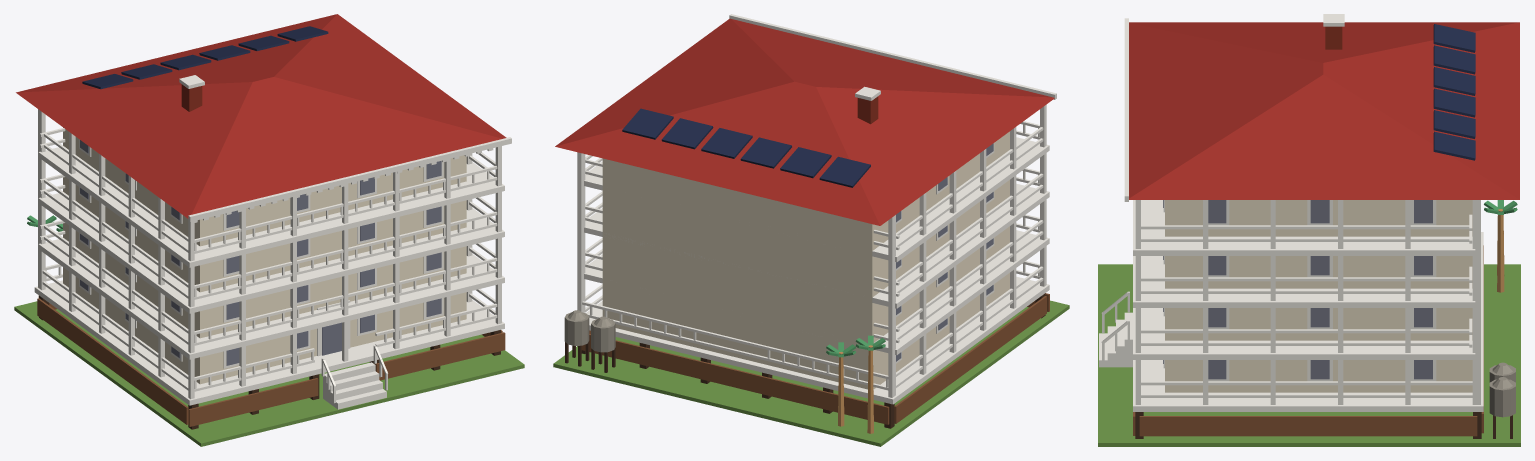
File: house-2x2-4f-queenslander-a-solar.glb
3 renders of one model, left to right at view 1: azimuth 30°, elevation 25°; view 2: azimuth 150°, elevation 25°; view 3: azimuth 270°, elevation 25°, orthographic. The views are drawn at different scales.
Visible parts, largest first — view 1: house-2x2-4f-queenslander-a-solar; view 2: house-2x2-4f-queenslander-a-solar; view 3: house-2x2-4f-queenslander-a-solar.
Part boxes in pixels (x1=…): house-2x2-4f-queenslander-a-solar: x1=14, y1=14, x2=524, y2=446; house-2x2-4f-queenslander-a-solar: x1=553, y1=14, x2=1069, y2=446; house-2x2-4f-queenslander-a-solar: x1=1098, y1=14, x2=1520, y2=446.
Size of the model in its own units: 1.99 by 1.57 by 1.99.
Materials: 1 (1 with a texture image).
